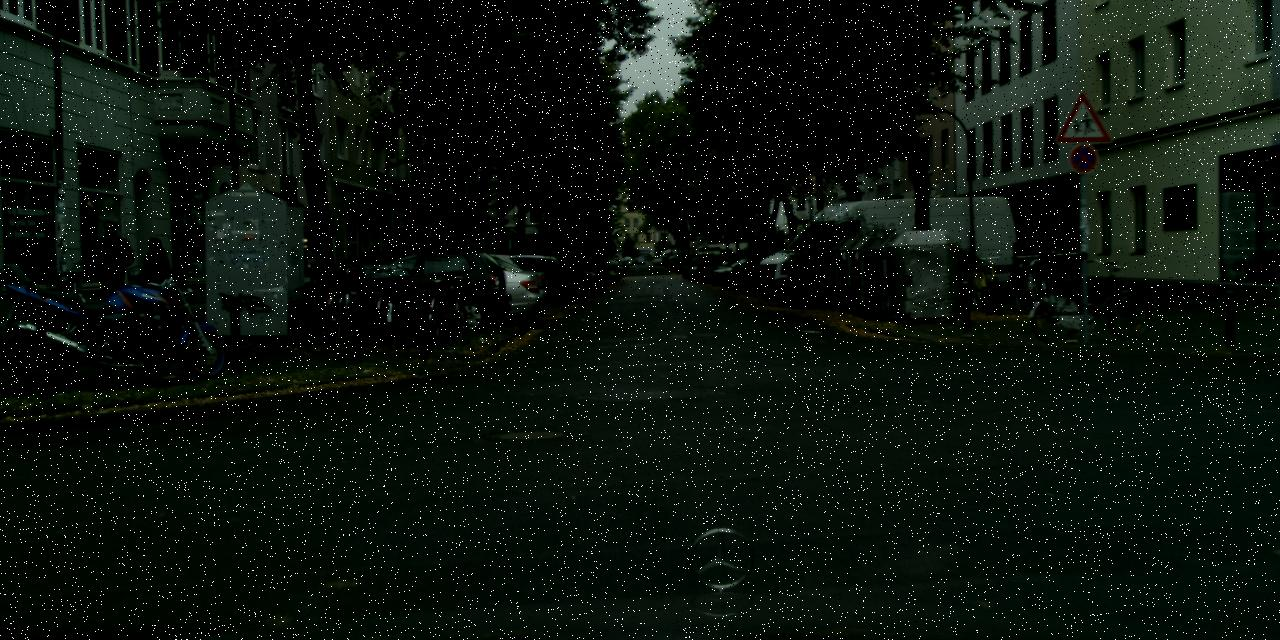ped: (87, 220, 136, 341), (136, 237, 176, 332), (356, 245, 374, 291)
